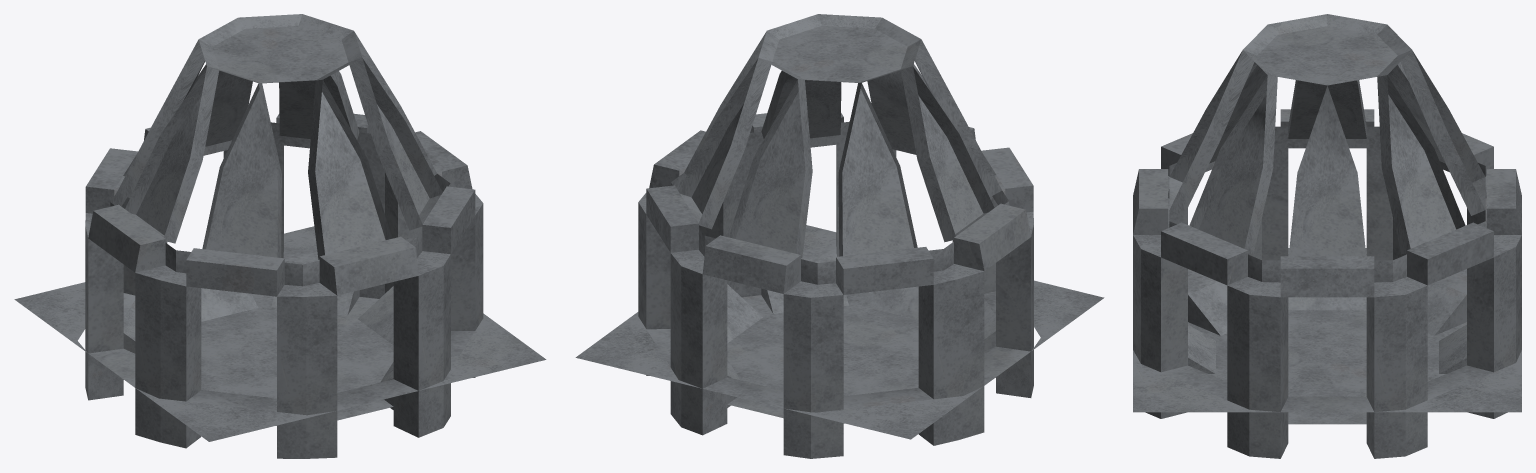
Rendered from 6way.fbx.
The picture shows the model from 3 angles, left to right: view 1: azimuth 30°, elevation 25°; view 2: azimuth 150°, elevation 25°; view 3: azimuth 270°, elevation 25°; orthographic projection.
Visible parts, largest first — view 1: pCylinder1; view 2: pCylinder1; view 3: pCylinder1.
Boxes of the visible parts, x1,y1,x2,y2 form: pCylinder1: [14, 14, 546, 458]; pCylinder1: [575, 14, 1104, 458]; pCylinder1: [1133, 14, 1521, 458].
Size of the model in its own units: 14 by 12.99 by 14.
